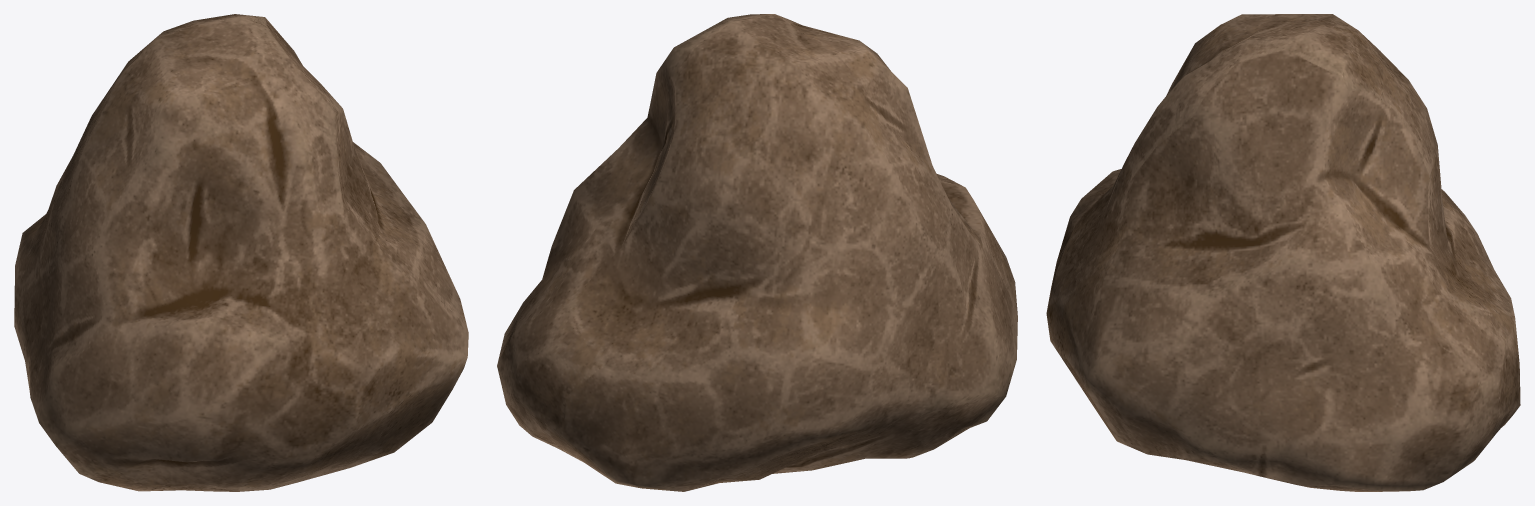
Rendered from sb_obj_nature007_Rock01b.fbx.
The picture shows the model from 3 angles, left to right: view 1: azimuth 30°, elevation 25°; view 2: azimuth 150°, elevation 25°; view 3: azimuth 270°, elevation 25°; orthographic projection. The views are drawn at different scales.
Visible parts, largest first — view 1: sb_obj_nature007_Rock01b; view 2: sb_obj_nature007_Rock01b; view 3: sb_obj_nature007_Rock01b.
Part boxes in pixels (x1,y1,x2,y2): sb_obj_nature007_Rock01b: [14, 14, 468, 491]; sb_obj_nature007_Rock01b: [497, 14, 1017, 491]; sb_obj_nature007_Rock01b: [1046, 14, 1520, 491].
Size of the model in its own units: 1.62 by 1.56 by 1.65.
